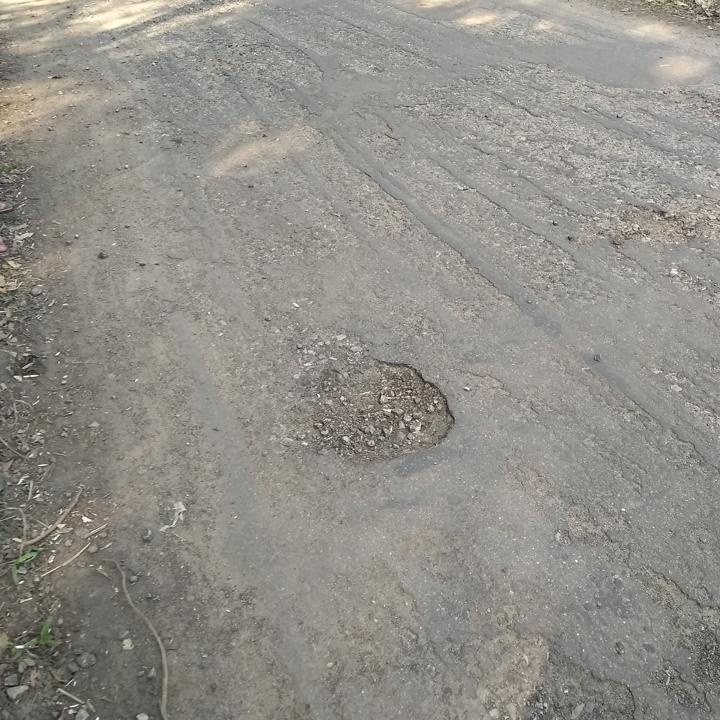pothole: (290, 352, 461, 463), (616, 200, 689, 246)
